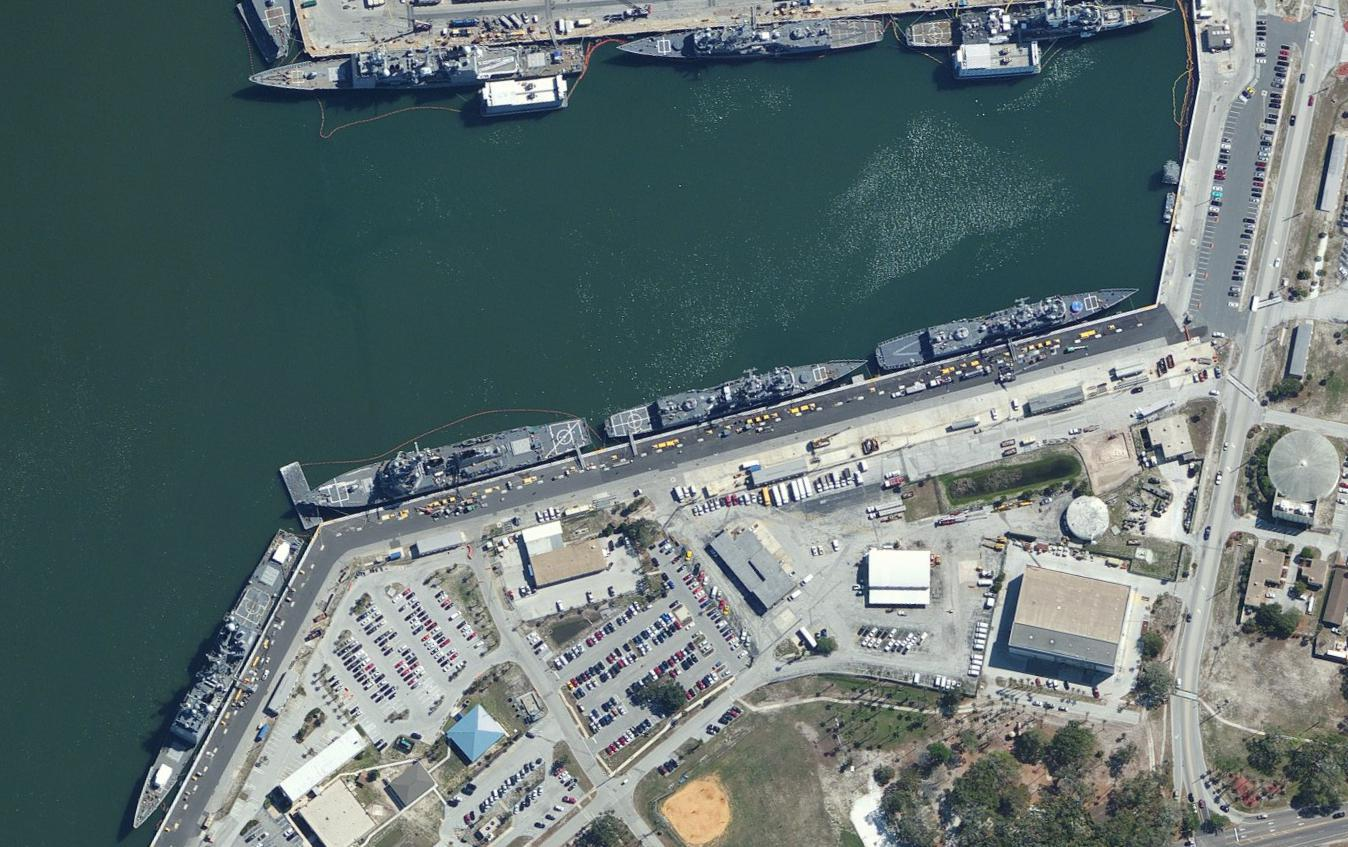destroyer: (126, 526, 308, 836), (881, 273, 1151, 373), (608, 345, 871, 443), (249, 30, 591, 94), (613, 9, 894, 58)
fregate: (279, 413, 593, 516)
